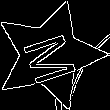M_E: (16, 25, 83, 85)
